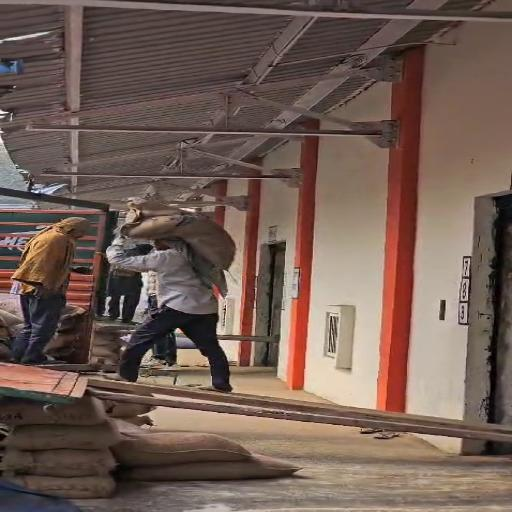bag: (120, 190, 245, 275)
